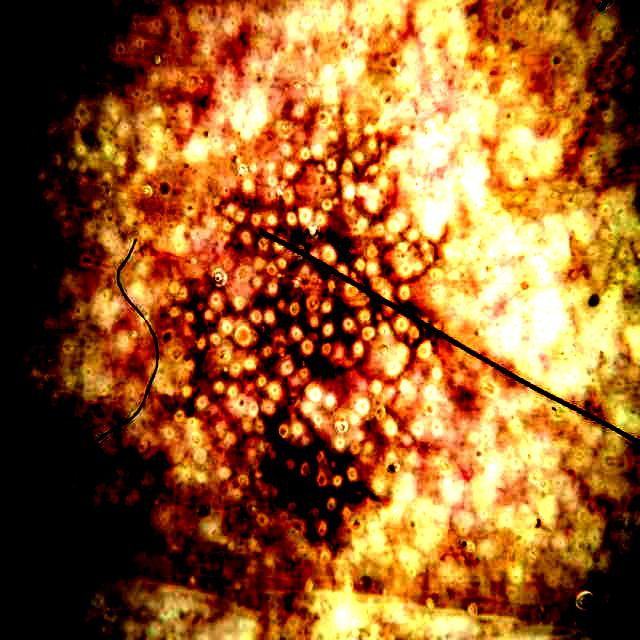AKIEC: (66, 77, 489, 612)
